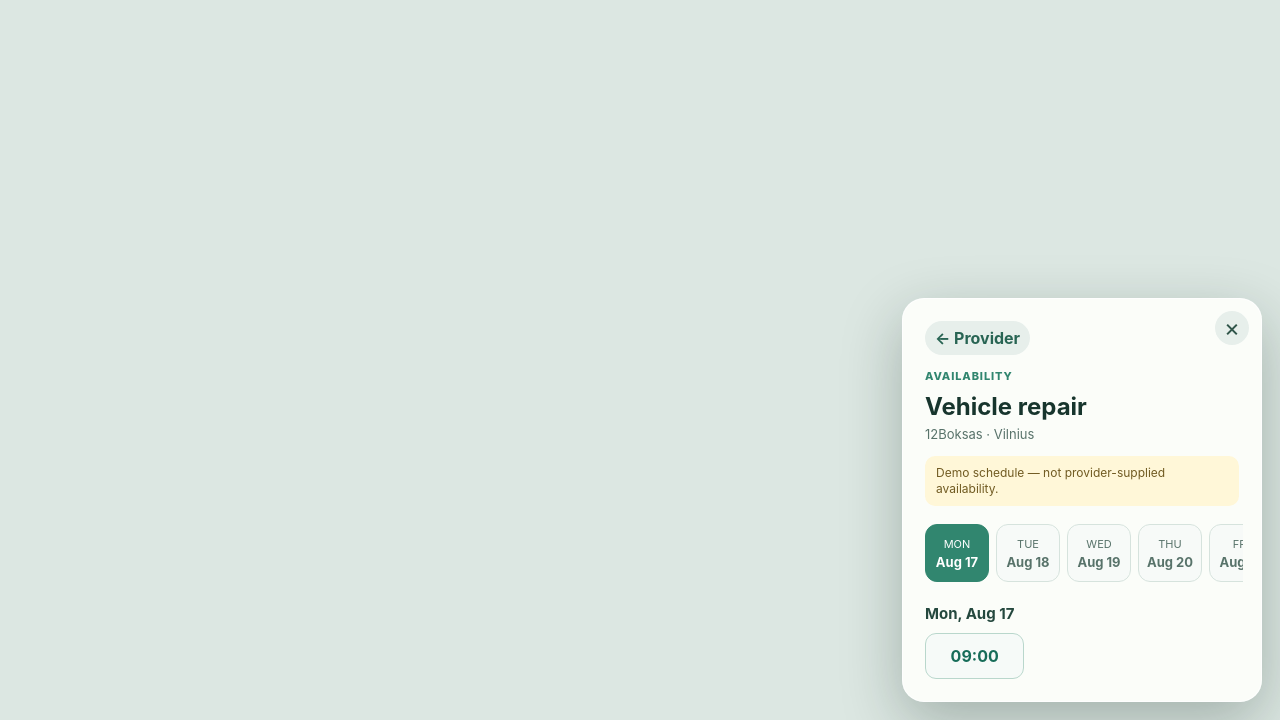
Test case: loads dates, switches days, and selects a slot without booking
Click the button "09:00" at (975, 656), box [925, 633, 1024, 679]
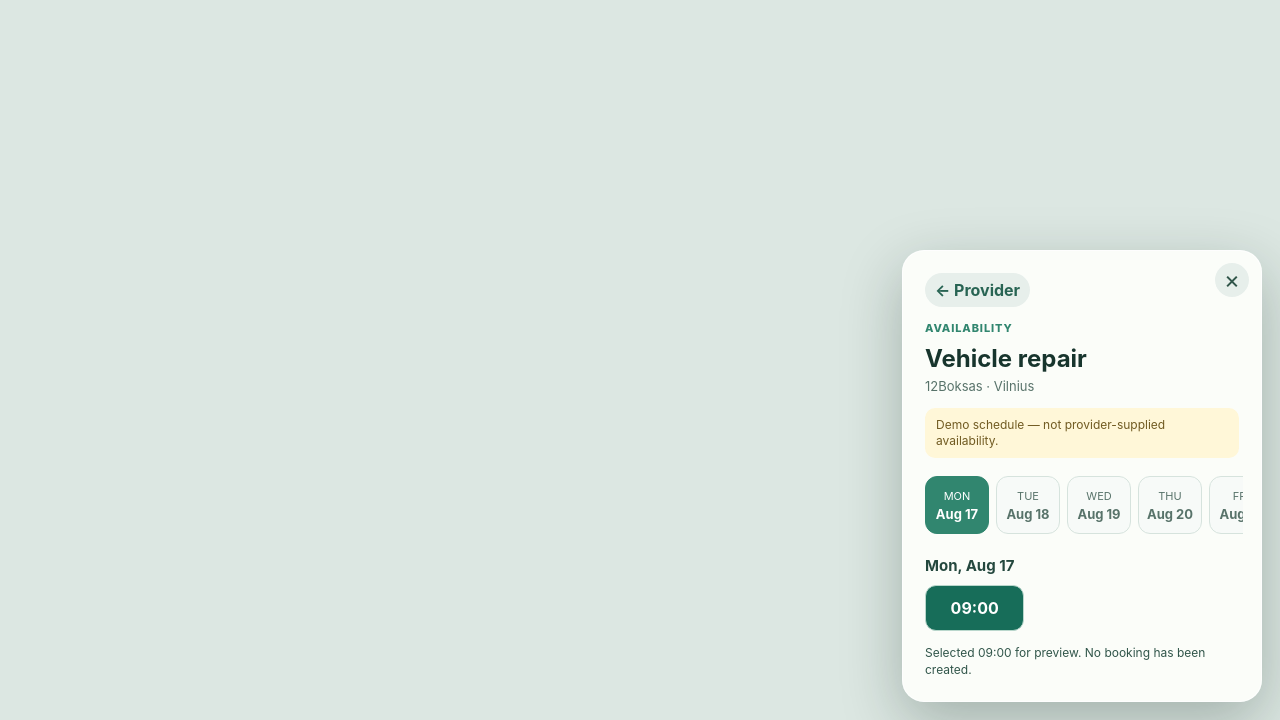
Now the text "Selected 09:00 for preview. No booking has been created." is shown, box [925, 645, 1239, 679]
Click the list item "Tue Aug 18" at (1028, 505), box [996, 476, 1060, 534]
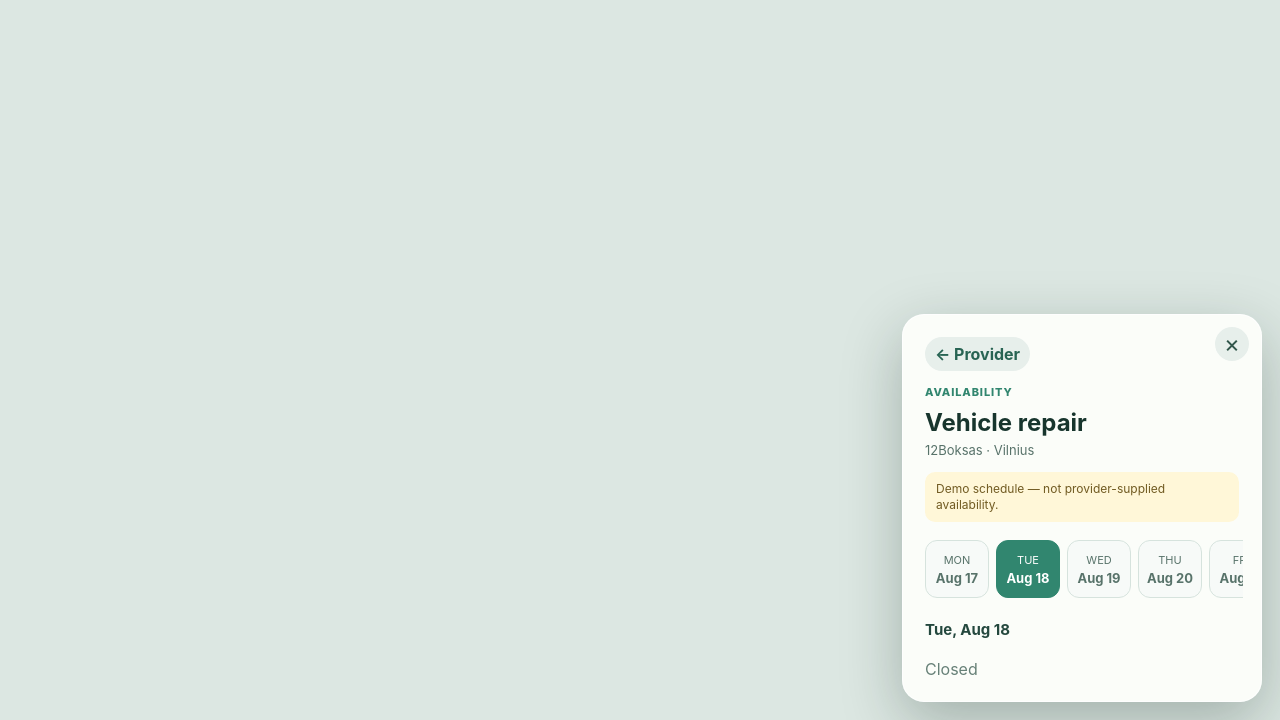
Now the text "Closed" is shown, box [925, 659, 978, 679]
